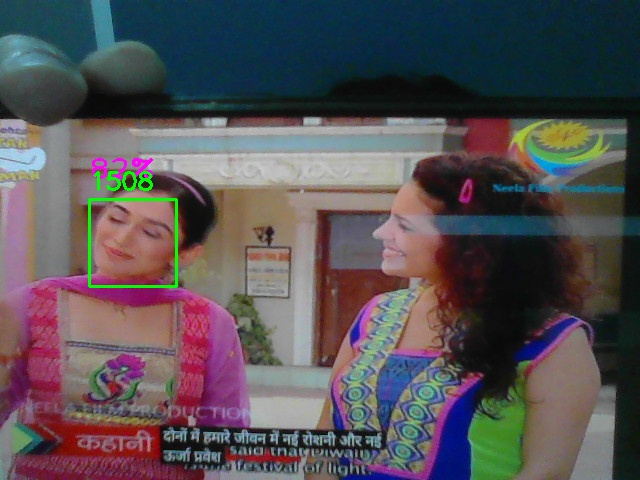fake: (89, 199, 177, 287)
